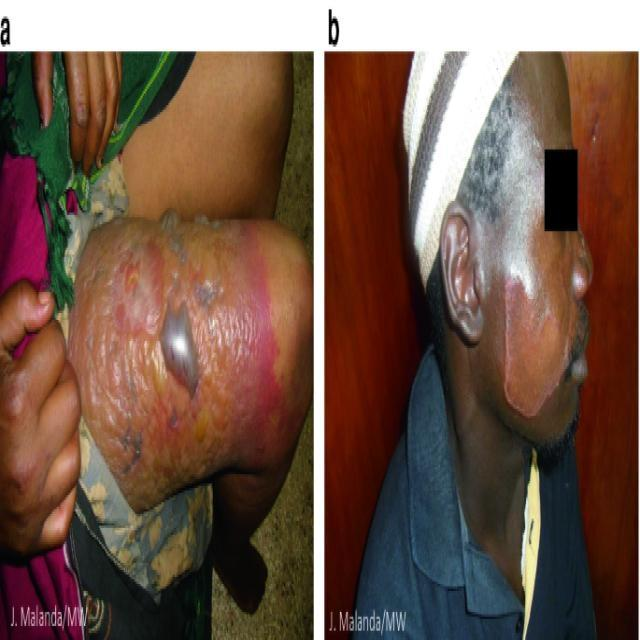Eczema: (91, 212, 279, 460), (503, 253, 567, 414)
